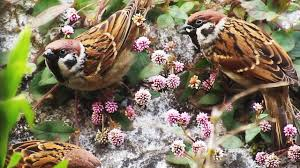hsparrow: (178, 7, 293, 110), (37, 1, 154, 96)
